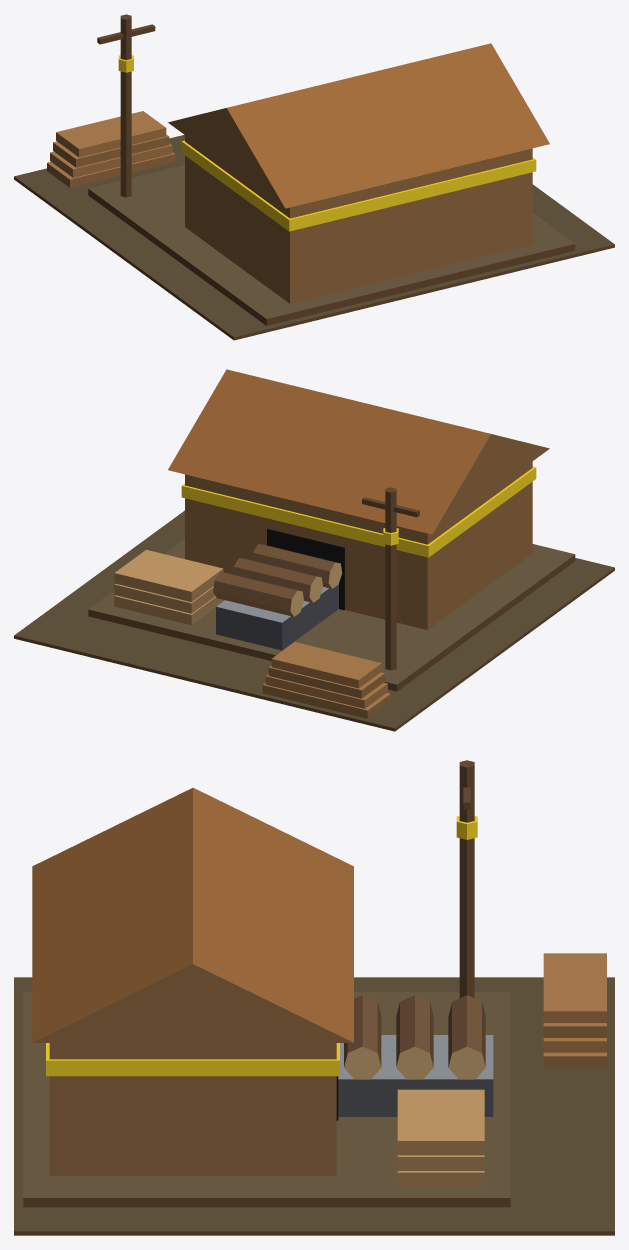
Rendered from lumber_camp_3.glb.
3 views of the same model, one above another, from view 1: azimuth 30°, elevation 25°; view 2: azimuth 150°, elevation 25°; view 3: azimuth 270°, elevation 25° (orthographic). The views are drawn at different scales.
Parts seen in each view (by area): view 1: lumber_camp_3; view 2: lumber_camp_3; view 3: lumber_camp_3.
Part boxes in pixels (x1,y1,x2,y2): lumber_camp_3: [14, 14, 614, 340]; lumber_camp_3: [14, 369, 614, 731]; lumber_camp_3: [14, 760, 614, 1235].
Size of the model in its own units: 3.8 by 1.79 by 3.8.
